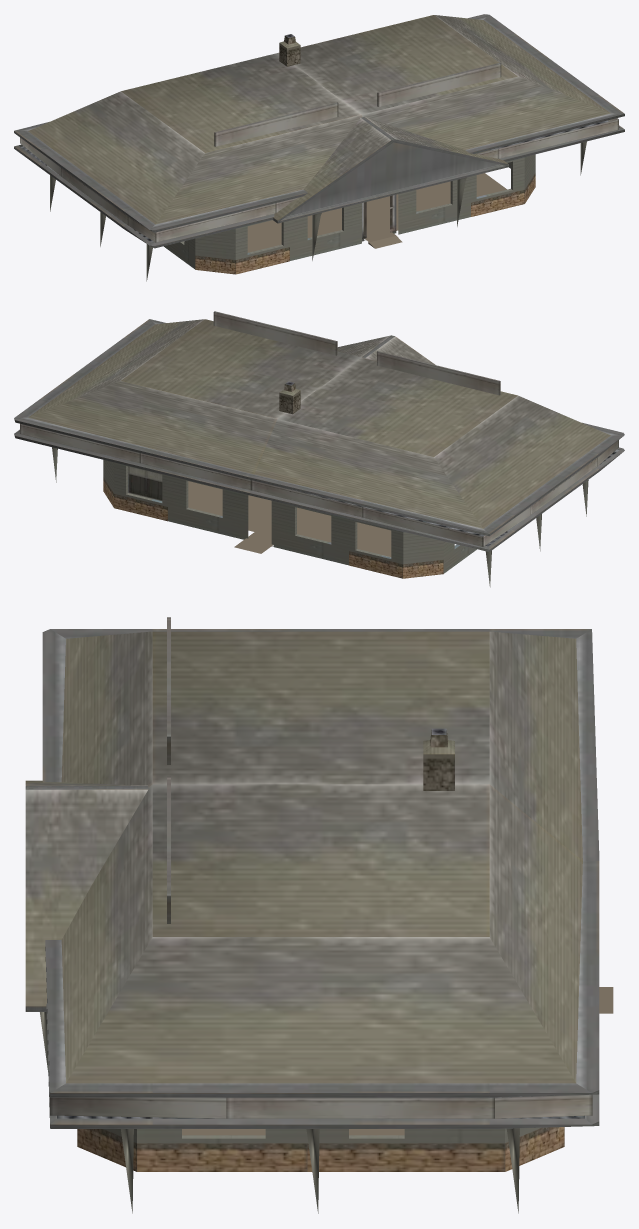
Rendered from rural-wood-4.access-v23.lod1.glb.
The picture shows the model from 3 angles, top to bottom: view 1: azimuth 30°, elevation 25°; view 2: azimuth 150°, elevation 25°; view 3: azimuth 270°, elevation 25°; orthographic projection. The views are drawn at different scales.
Visible parts, largest first — view 1: Rural_WoodenBuilding_4_Rural_Housetrim_1_0, Rural_WoodenBuilding_4_Rural_Walltrim_1_0, Rural_WoodenBuilding_4_Rural_Facade_FLR_2_0, Walkable floors and stairs; view 2: Rural_WoodenBuilding_4_Rural_Housetrim_1_0, Rural_WoodenBuilding_4_Rural_Facade_FLR_2_0, Rural_WoodenBuilding_4_Rural_Walltrim_1_0, Walkable floors and stairs; view 3: Rural_WoodenBuilding_4_Rural_Housetrim_1_0, Rural_WoodenBuilding_4_Rural_Facade_FLR_2_0, Rural_WoodenBuilding_4_Rural_Walltrim_1_0, Walkable floors and stairs.
Boxes of the visible parts, x1,y1,x2,y2 form: Rural_WoodenBuilding_4_Rural_Housetrim_1_0: (14, 14, 624, 274); Rural_WoodenBuilding_4_Rural_Walltrim_1_0: (50, 140, 586, 281); Rural_WoodenBuilding_4_Rural_Facade_FLR_2_0: (20, 62, 618, 242); Walkable floors and stairs: (247, 173, 506, 252); Rural_WoodenBuilding_4_Rural_Housetrim_1_0: (14, 319, 624, 578); Rural_WoodenBuilding_4_Rural_Facade_FLR_2_0: (20, 311, 618, 546); Rural_WoodenBuilding_4_Rural_Walltrim_1_0: (52, 447, 588, 587); Walkable floors and stairs: (188, 481, 391, 556); Rural_WoodenBuilding_4_Rural_Housetrim_1_0: (25, 629, 599, 1171); Rural_WoodenBuilding_4_Rural_Facade_FLR_2_0: (49, 617, 592, 1118); Rural_WoodenBuilding_4_Rural_Walltrim_1_0: (40, 1012, 540, 1213); Walkable floors and stairs: (182, 1129, 404, 1135).
Size of the model in its own units: 27.73 by 7.64 by 14.85.
6 materials, 3 textured.
